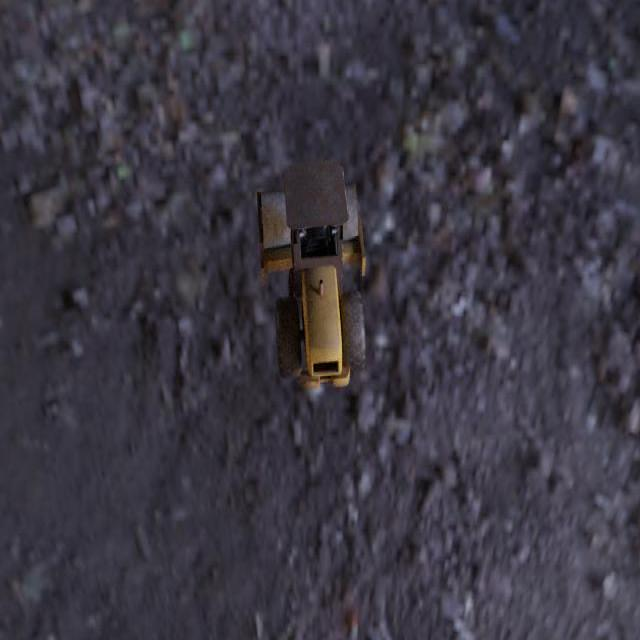Roller: (256, 158, 366, 390)
